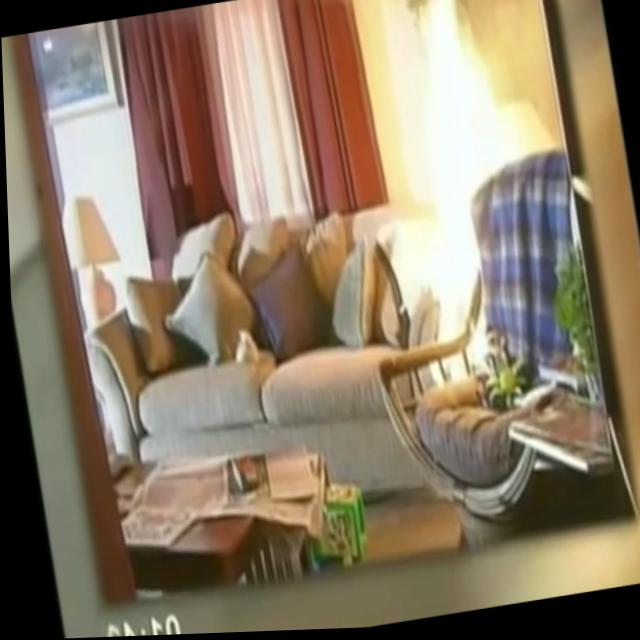fire: (351, 0, 543, 398)
